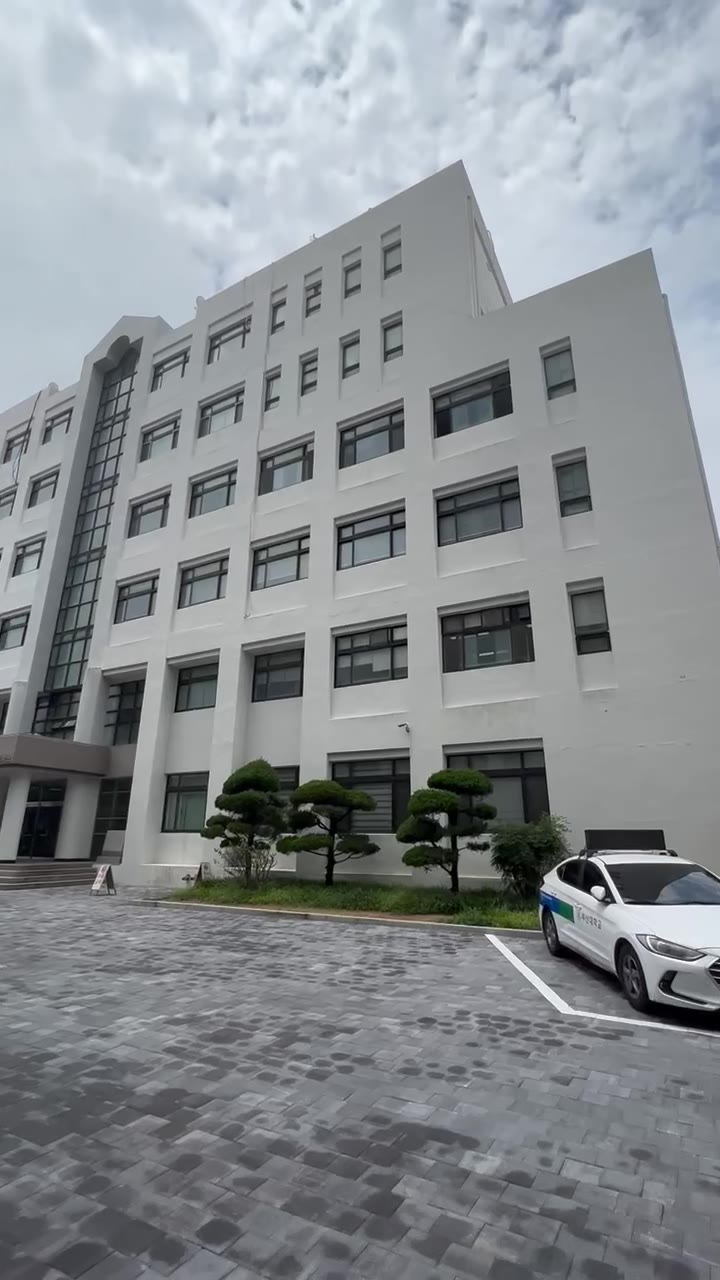medium: (36, 214, 720, 764)
